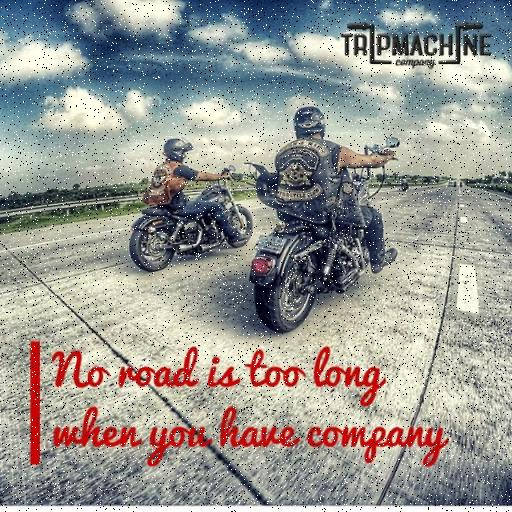Helmet: (294, 105, 324, 137), (162, 138, 192, 165)
Motor: (239, 211, 409, 331), (122, 189, 248, 262)
